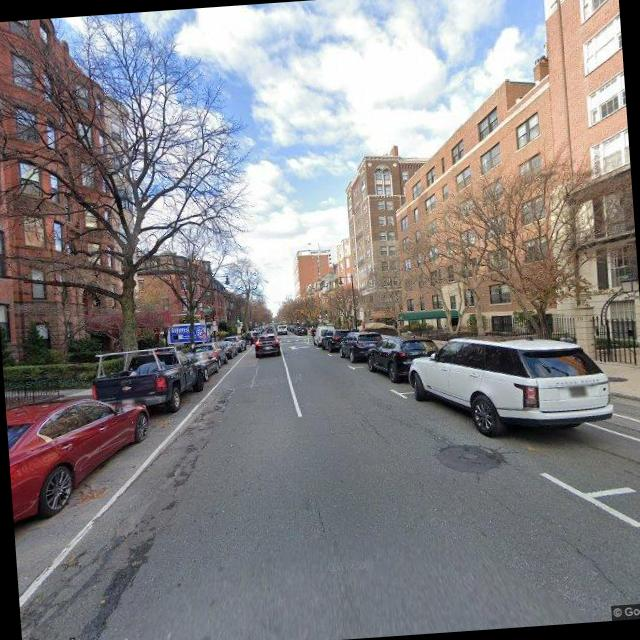pothole: (561, 532, 625, 602)
